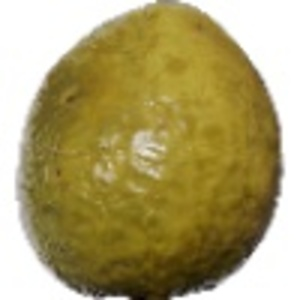goiaba: (8, 3, 287, 292)
